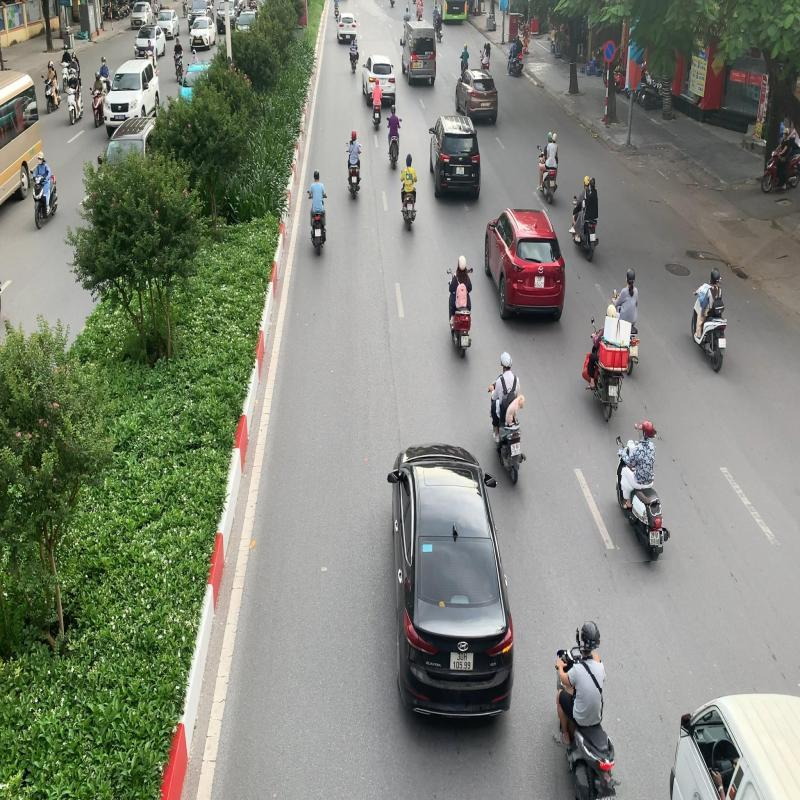helmet: (578, 621, 602, 650), (636, 418, 656, 440), (499, 350, 512, 368), (625, 270, 635, 284)
licenseplate: (648, 528, 662, 547), (509, 441, 522, 458)
motorcyclist: (550, 619, 626, 800), (610, 415, 672, 563), (485, 350, 530, 488)
